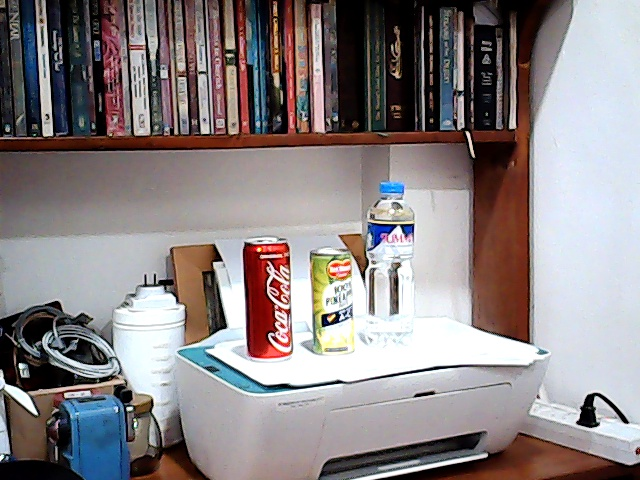Cola: (237, 228, 298, 364)
Pine Juice: (306, 241, 361, 359)
Summit Water: (365, 175, 420, 351)
